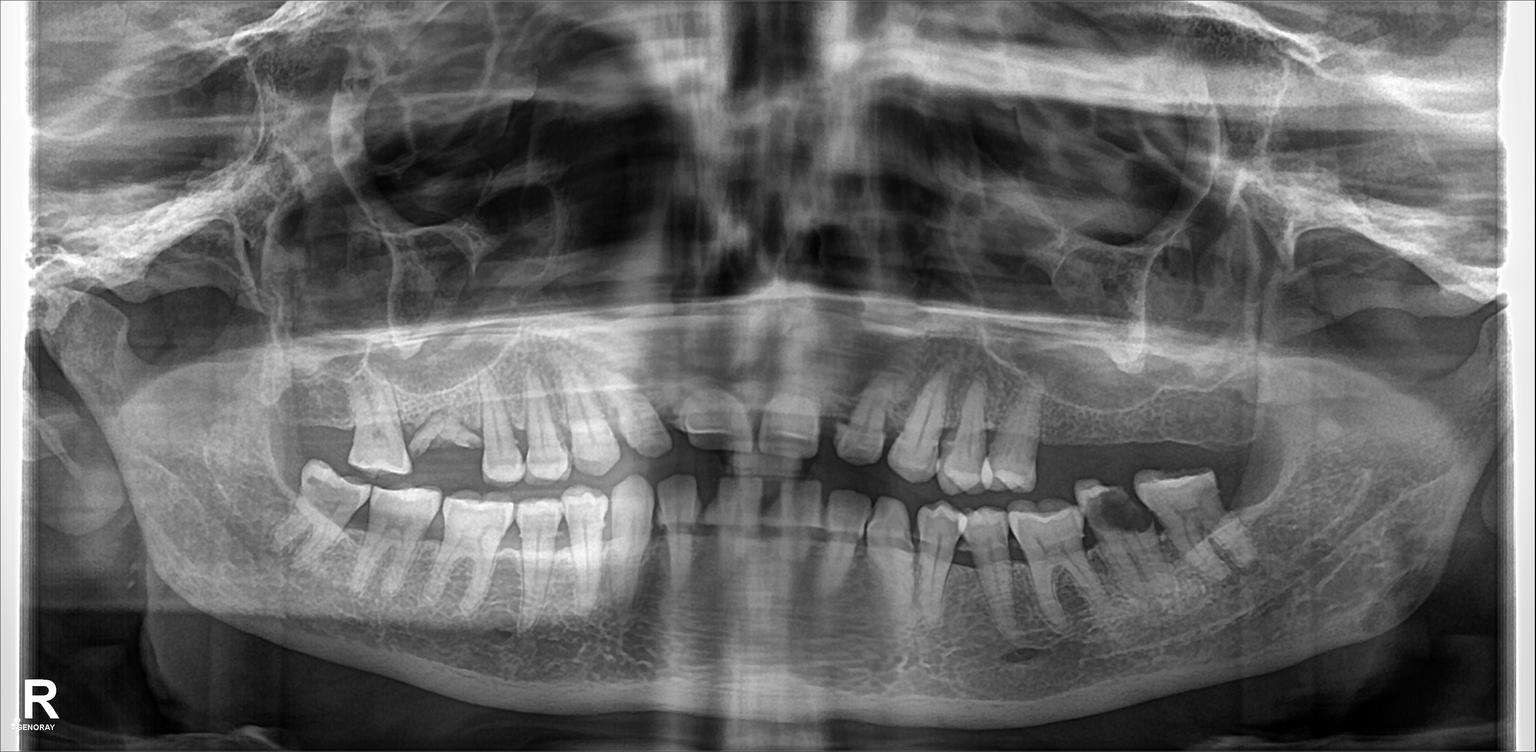Dental Caries: (1088, 495, 1155, 541)
Missing Tooth: (296, 382, 352, 456), (1194, 367, 1247, 444), (1037, 382, 1074, 469), (1082, 376, 1111, 472), (1156, 376, 1189, 444), (1127, 383, 1153, 468)
Retained Root: (402, 396, 483, 484)
